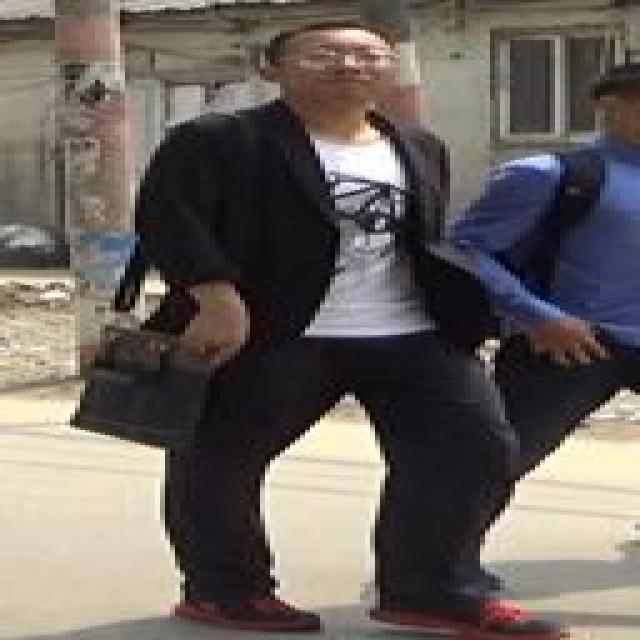adult: (106, 18, 540, 627), (472, 59, 640, 574)
